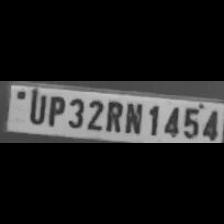1: (144, 102, 160, 136)
2: (84, 96, 104, 132)
3: (64, 94, 84, 128)
4: (199, 105, 219, 141), (160, 103, 180, 137)
5: (180, 104, 198, 140)
N: (122, 99, 142, 135)
P: (45, 93, 63, 127)
R: (104, 97, 122, 132)
U: (26, 91, 46, 125)
